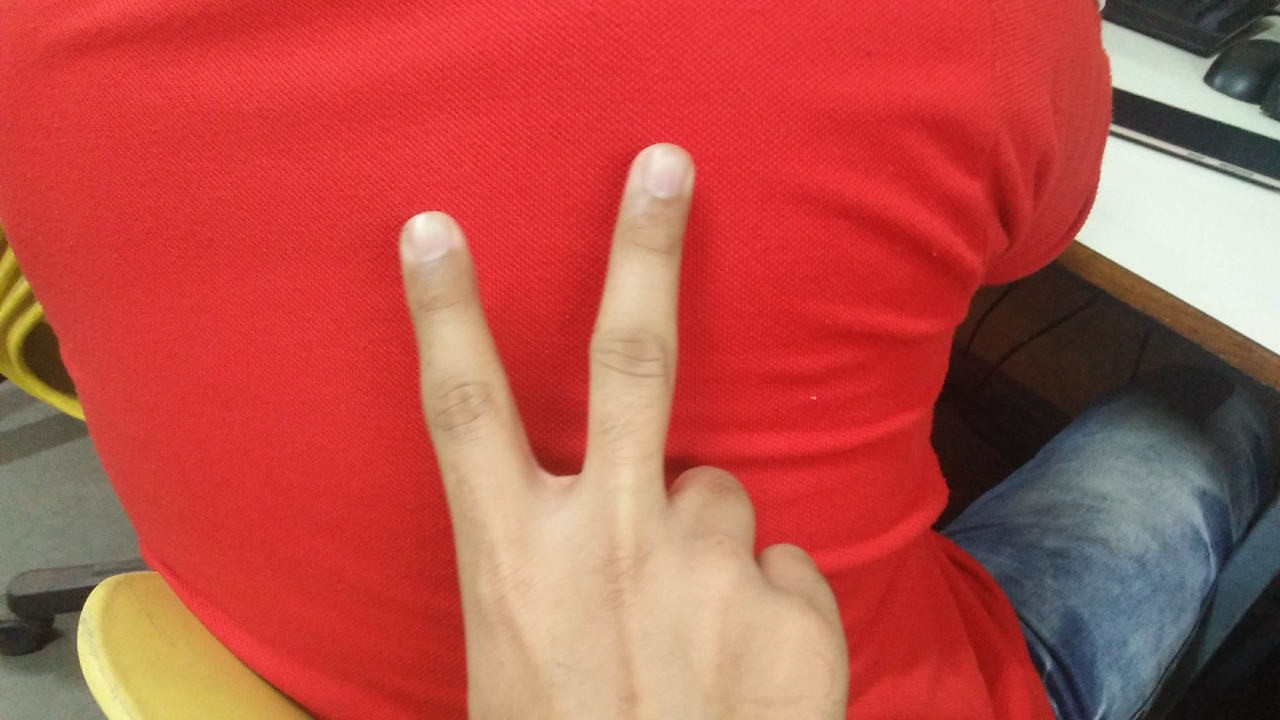fingertip: (388, 202, 466, 280), (620, 142, 696, 206)
